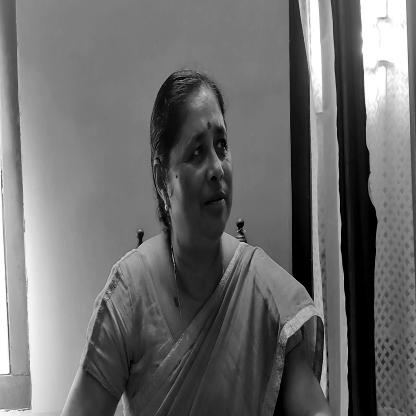Distracted: (152, 66, 238, 244)
